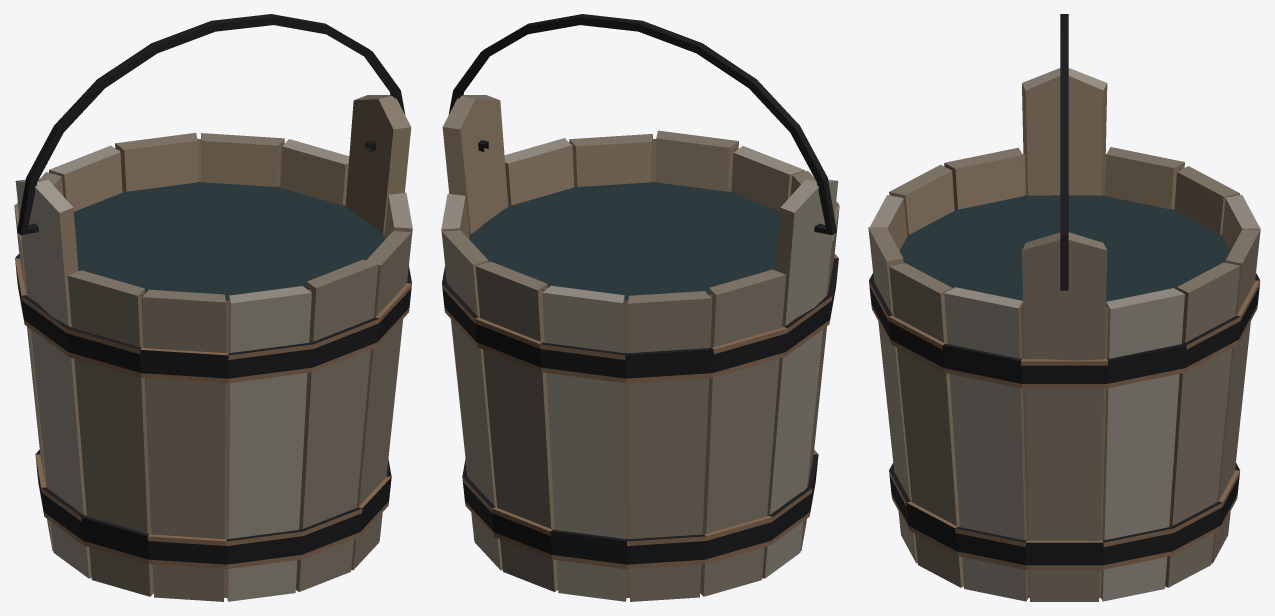
File: eimer.glb
The picture shows the model from 3 angles, left to right: view 1: azimuth 30°, elevation 25°; view 2: azimuth 150°, elevation 25°; view 3: azimuth 270°, elevation 25°; orthographic projection. The views are drawn at different scales.
Visible parts, largest first — view 1: Eimer, Wasser; view 2: Eimer, Wasser; view 3: Eimer, Wasser.
Part boxes in pixels (x1,y1,x2,y2): Eimer: (14,14,412,601); Wasser: (73,181,384,300); Eimer: (441,14,839,601); Wasser: (469,181,780,300); Eimer: (868,14,1260,601); Wasser: (899,195,1229,307).
Bounding box in the file's own units: 0.3343 × 0.4182 × 0.2997.
